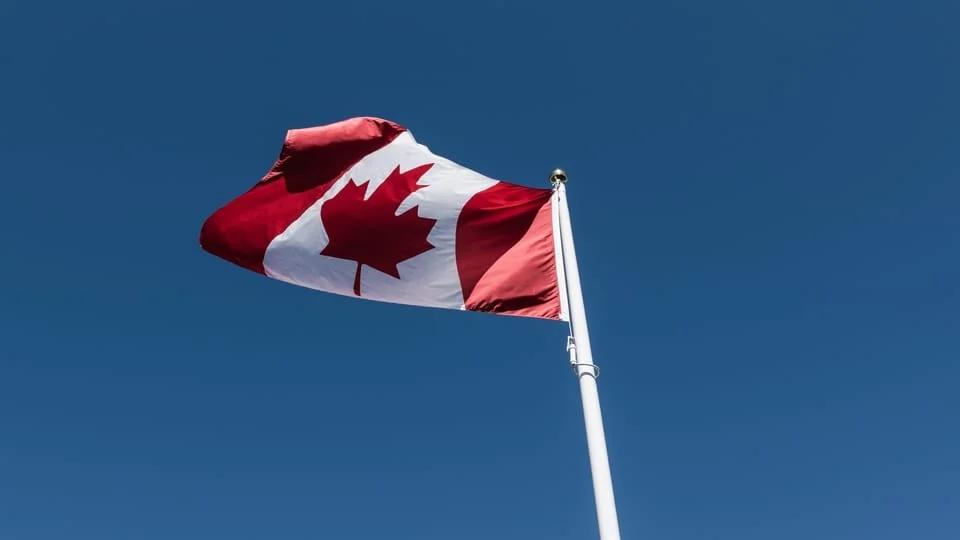Canada flag: (199, 112, 572, 322)
